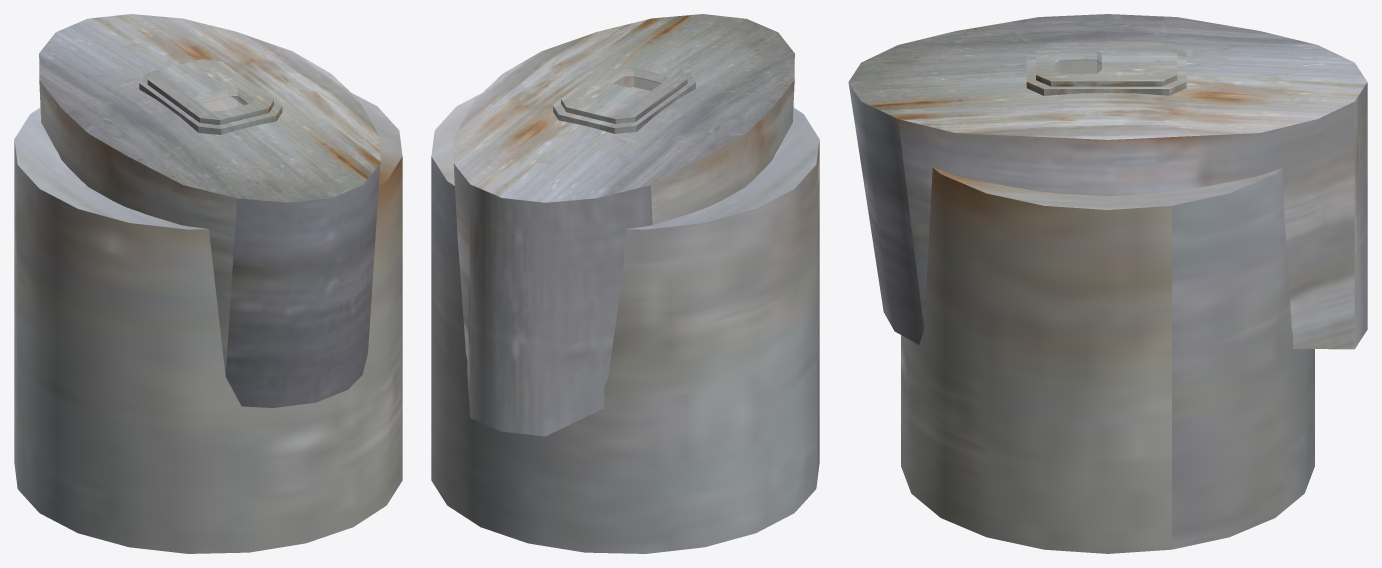
The model's file is escoltilha.fbx.
The picture shows the model from 3 angles, left to right: view 1: azimuth 30°, elevation 25°; view 2: azimuth 150°, elevation 25°; view 3: azimuth 270°, elevation 25°; orthographic projection. The views are drawn at different scales.
Parts seen in each view (by area): view 1: pCylinder41, polySurface69, polySurface67, polySurface68, pCube428; view 2: pCylinder41, polySurface69, polySurface67, polySurface68, pCube428; view 3: pCylinder41, polySurface69, polySurface67, polySurface68, pCube428.
Part boxes in pixels (x1,y1,x2,y2): pCylinder41: (14, 93, 402, 553); polySurface69: (39, 14, 380, 407); polySurface67: (147, 59, 273, 124); polySurface68: (139, 72, 282, 134); pCube428: (195, 89, 252, 110); pCylinder41: (431, 93, 819, 553); polySurface69: (453, 14, 794, 436); polySurface67: (561, 58, 687, 124); polySurface68: (553, 67, 695, 133); pCube428: (608, 69, 666, 90); pCylinder41: (901, 167, 1314, 553); polySurface69: (848, 14, 1367, 349); polySurface67: (1036, 43, 1177, 86); polySurface68: (1026, 45, 1186, 95); pCube428: (1055, 52, 1101, 73).
Size of the model in its own units: 11.17 by 12.07 by 14.01.
